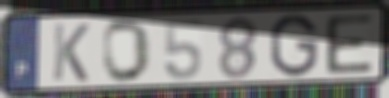5: (162, 16, 204, 81)
8: (217, 14, 260, 81)
E: (323, 12, 376, 76)
G: (268, 13, 320, 80)
K: (50, 21, 92, 84)
O: (101, 17, 153, 85)
